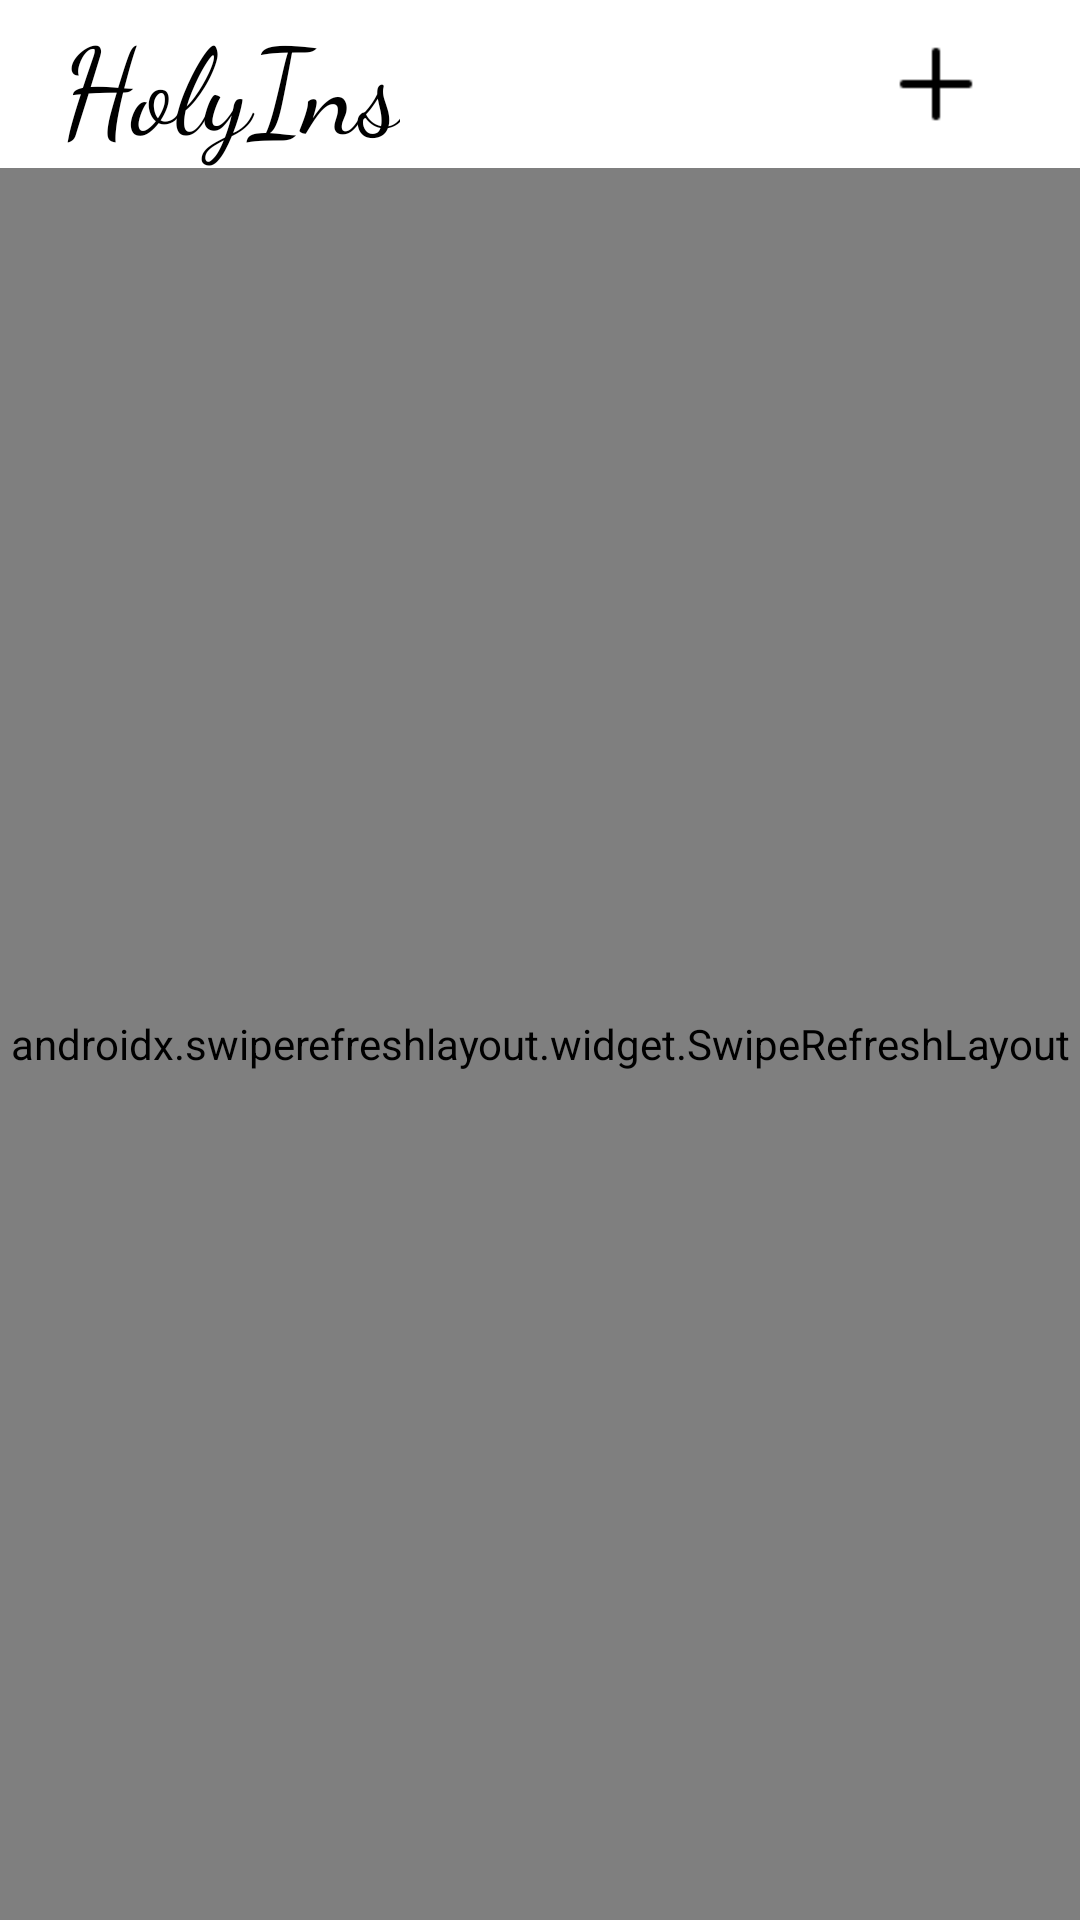

Icons on this 1080w x 1920h Android screen, each with the point to tap as (x,y):
release post: (936,84)
